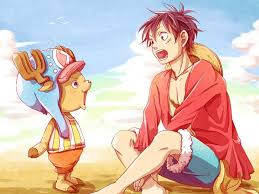chopper: (10, 46, 94, 118)
luffy: (135, 3, 207, 68)
